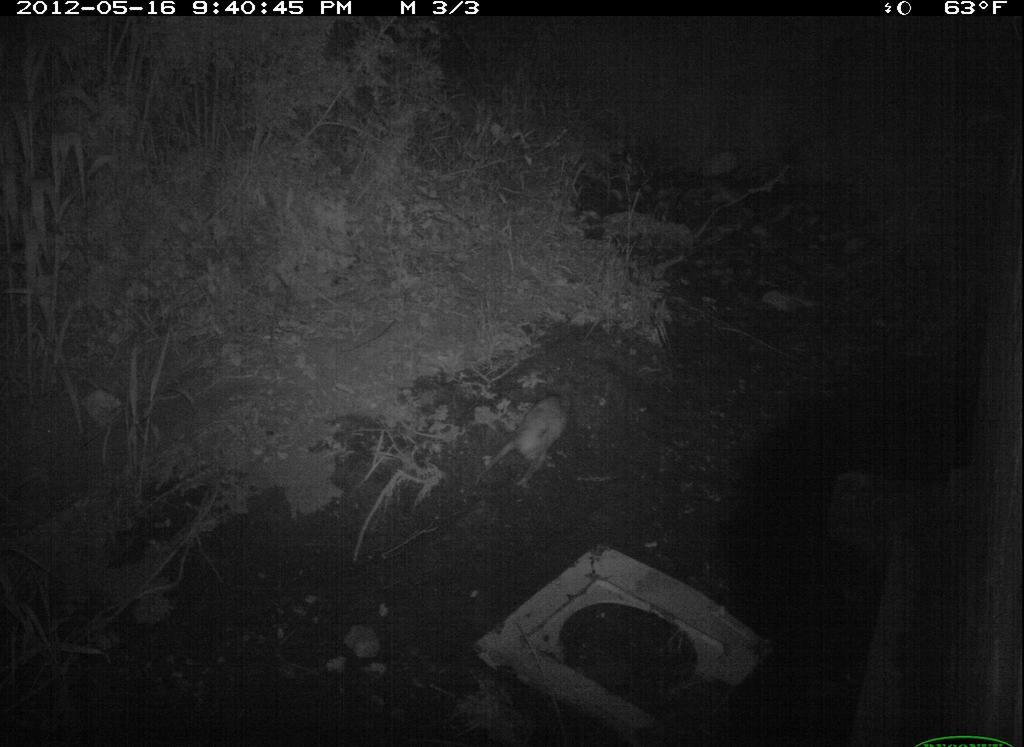opossum: (478, 379, 606, 496)
